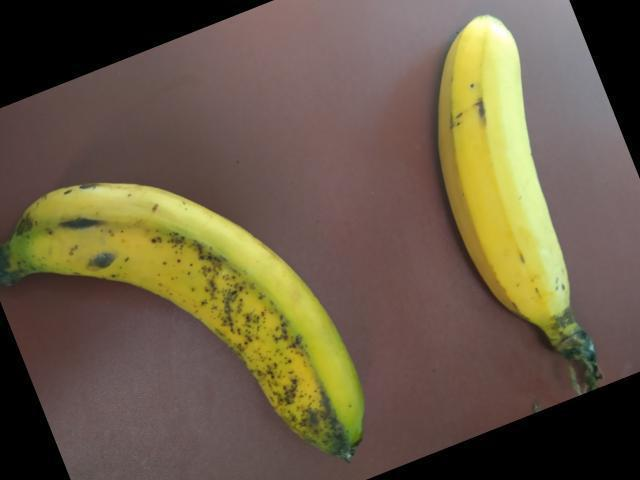freshripe: (420, 6, 597, 363)
ripe: (18, 175, 389, 479)
